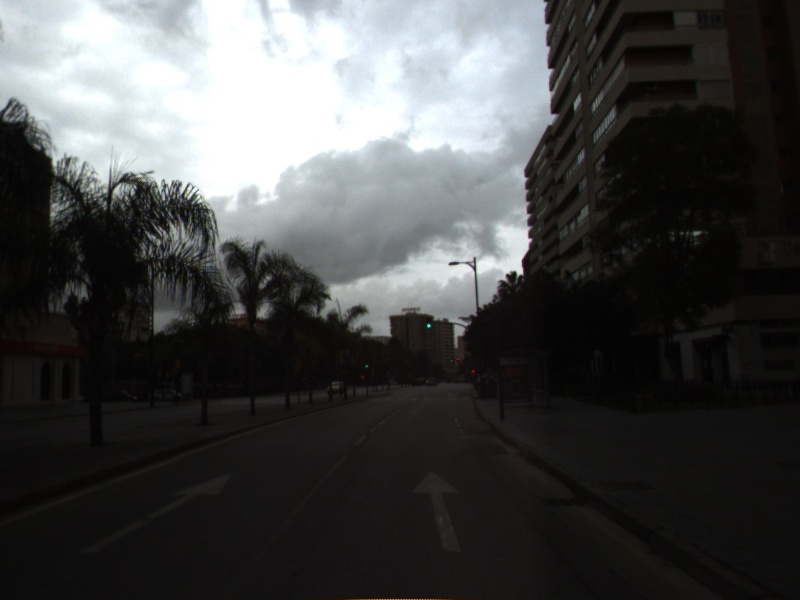STRAIGHT: (77, 469, 238, 558), (408, 468, 465, 554)
